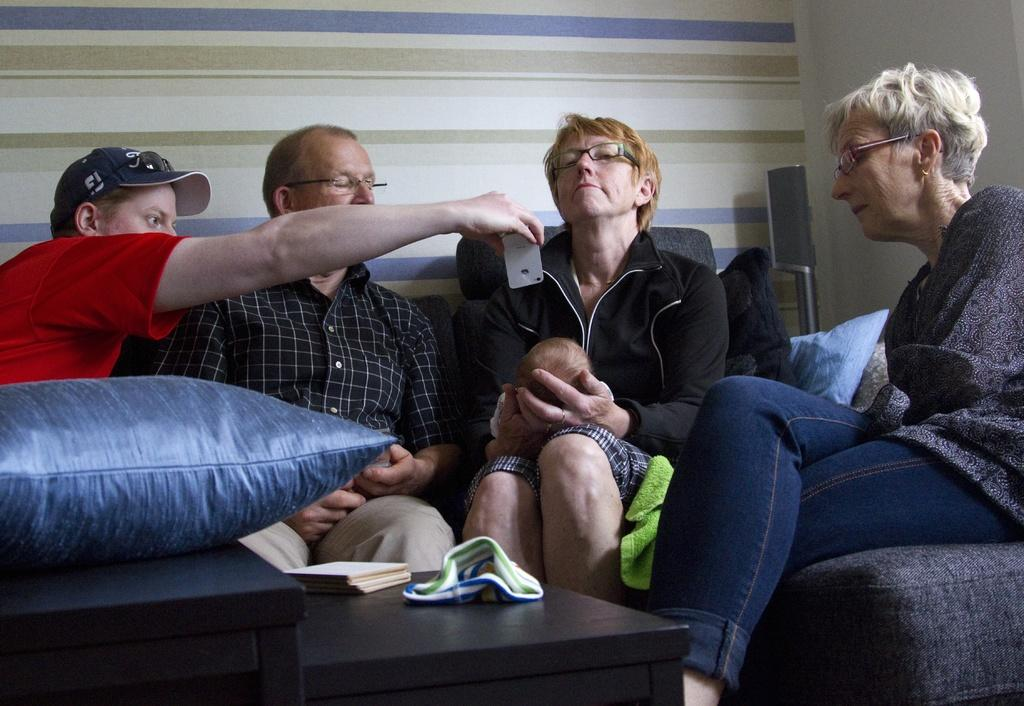Hat: (47, 150, 213, 236)
